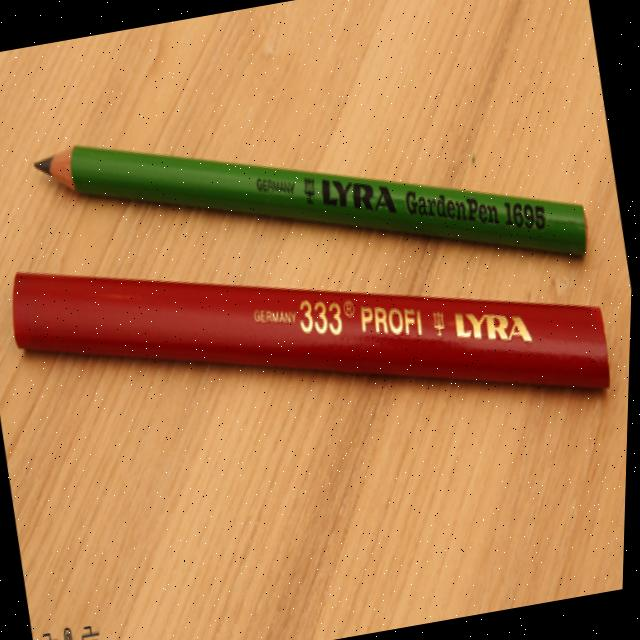pencil: (5, 253, 625, 401), (24, 133, 607, 270)
